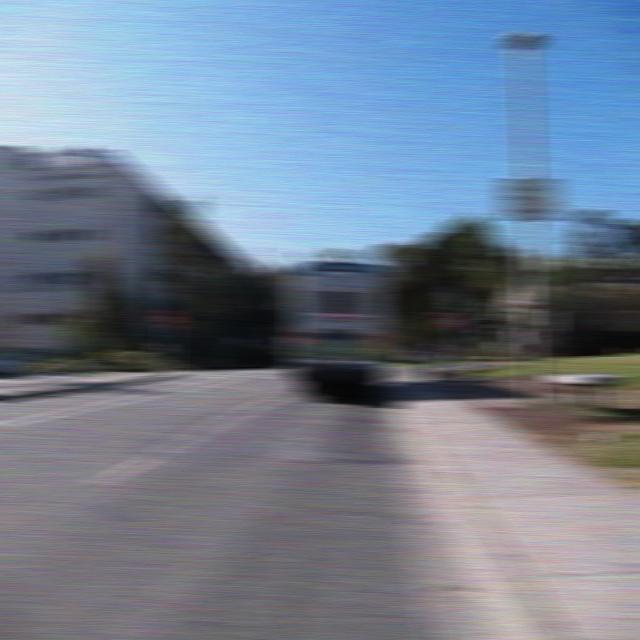stop: (436, 310, 462, 334), (156, 308, 181, 328)
